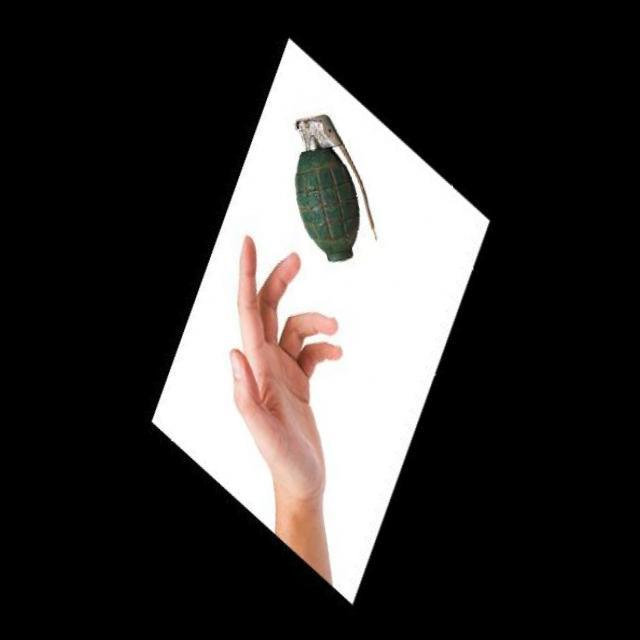grenade: (274, 101, 386, 276)
